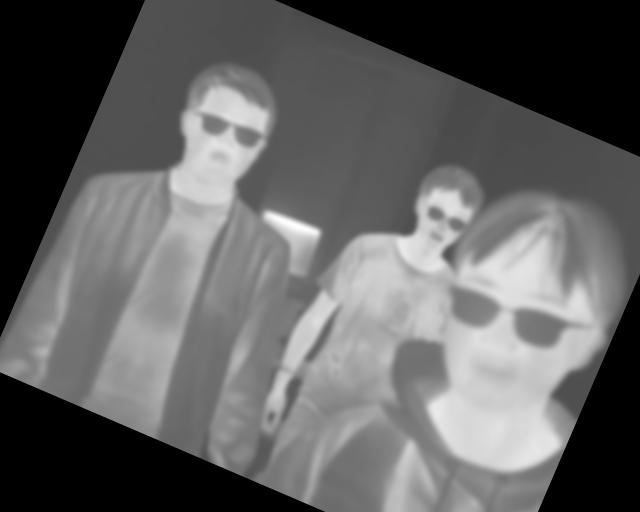face: (403, 161, 640, 443), (156, 48, 294, 201), (395, 151, 492, 263)
